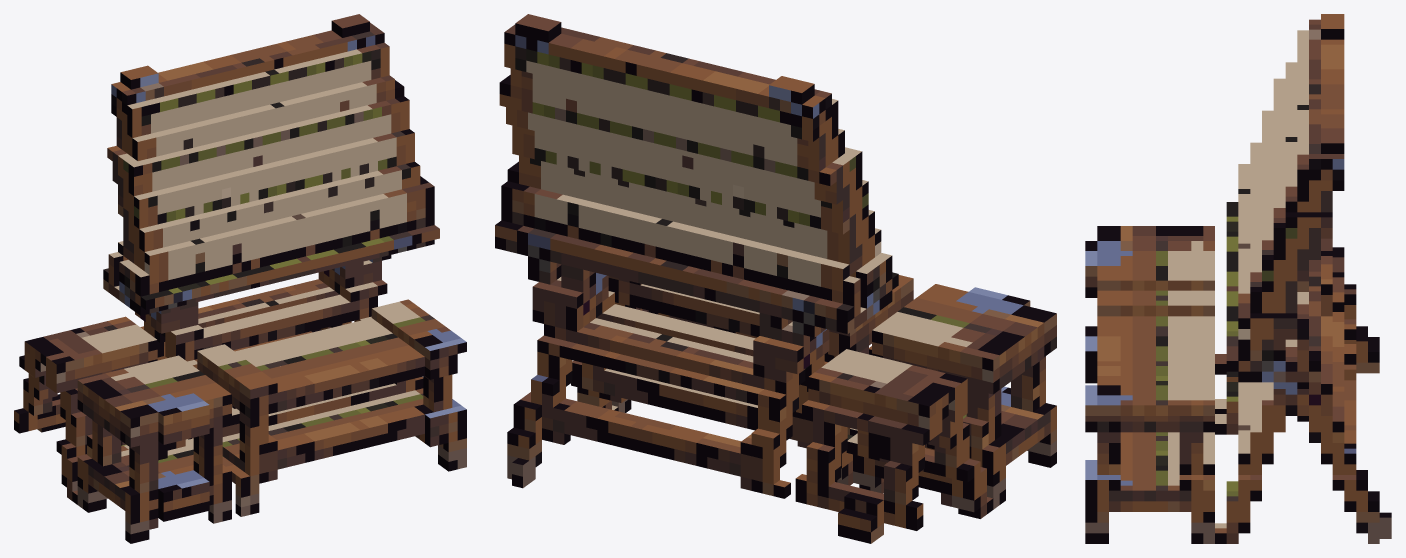
File: city_lottery_stand.glb
3 renders of one model, left to right at view 1: azimuth 30°, elevation 25°; view 2: azimuth 150°, elevation 25°; view 3: azimuth 270°, elevation 25°, orthographic. The views are drawn at different scales.
Visible parts, largest first — view 1: city_lottery_stand; view 2: city_lottery_stand; view 3: city_lottery_stand.
Boxes of the visible parts, x1,y1,x2,y2 form: city_lottery_stand: [14, 14, 466, 543]; city_lottery_stand: [495, 14, 1056, 543]; city_lottery_stand: [1085, 14, 1391, 543].
Size of the model in its own units: 1.25 by 1.19 by 0.8125.
